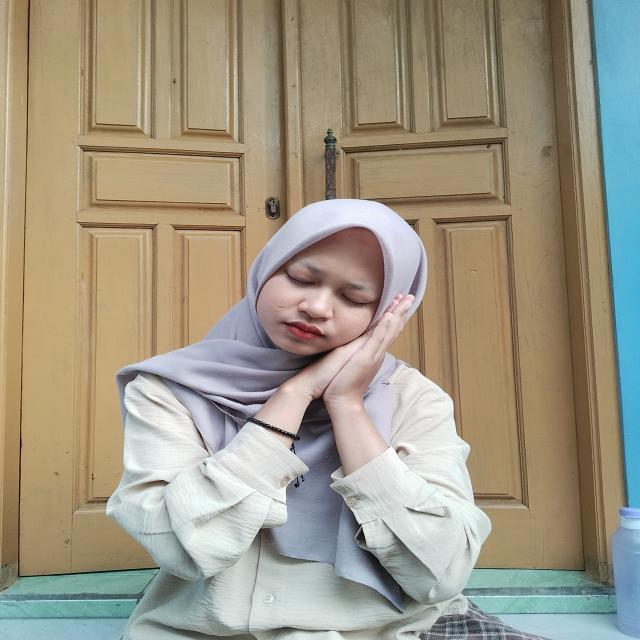tidur: (214, 287, 428, 458)
